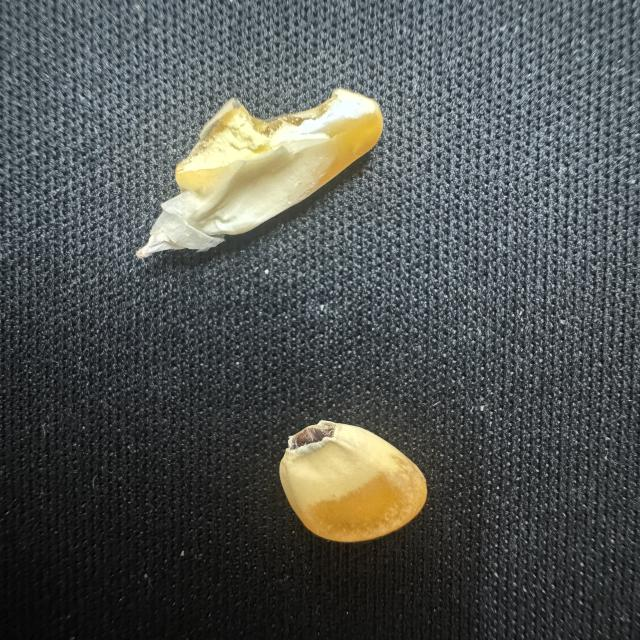Bad-Seed: (124, 81, 395, 272), (268, 411, 435, 549)
